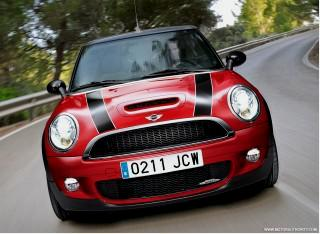mini: (141, 108, 168, 129)
